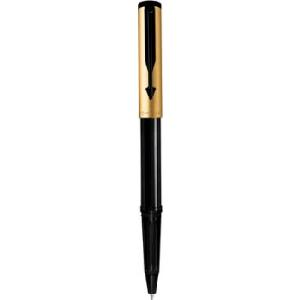pen: (134, 1, 169, 300)
